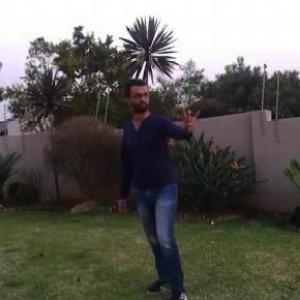takeoff-hand: (178, 100, 209, 136)
